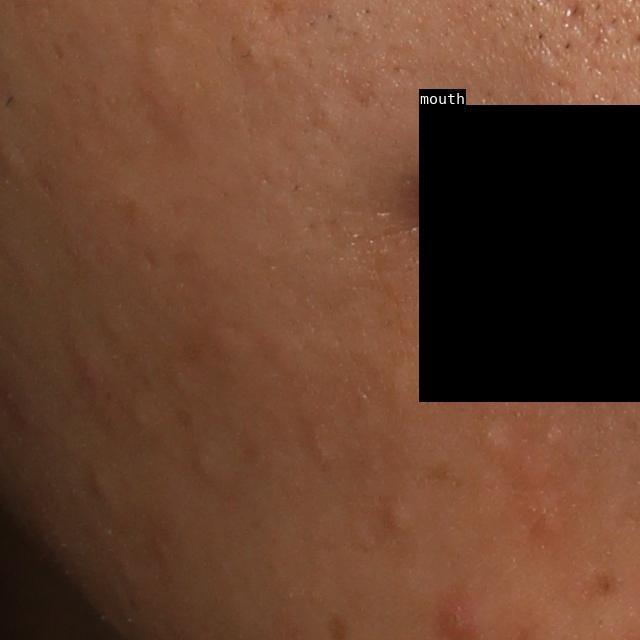comedo: (124, 393, 155, 433), (382, 503, 416, 536), (189, 451, 222, 484), (90, 470, 115, 507)
papule: (78, 359, 105, 393)
